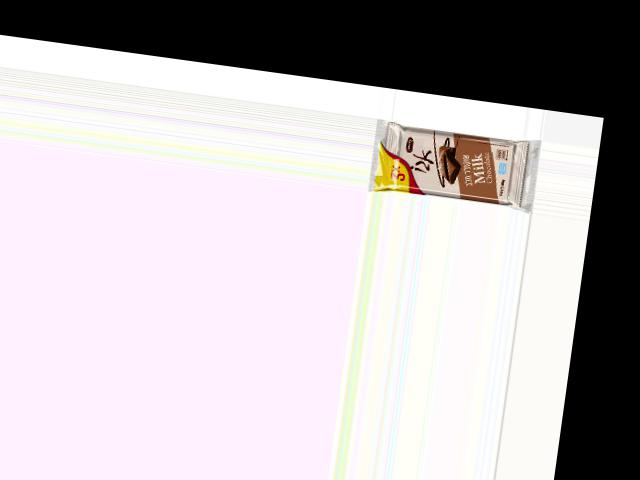chocolate: (367, 117, 526, 211)
